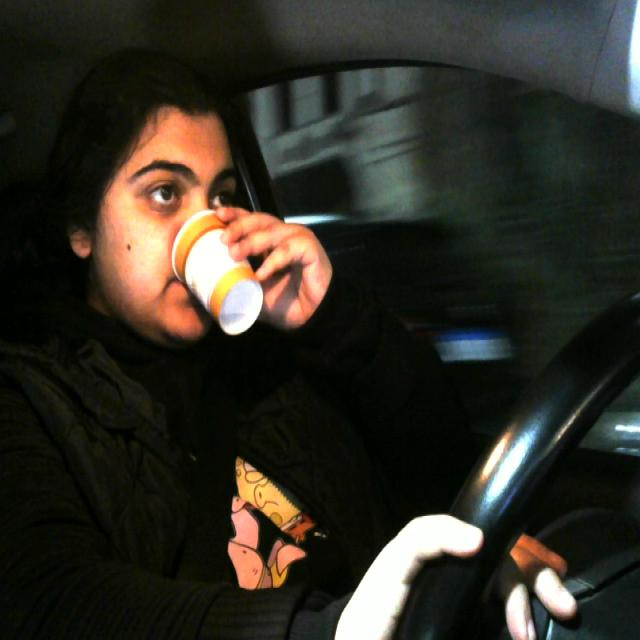drinking: (172, 202, 267, 348)
